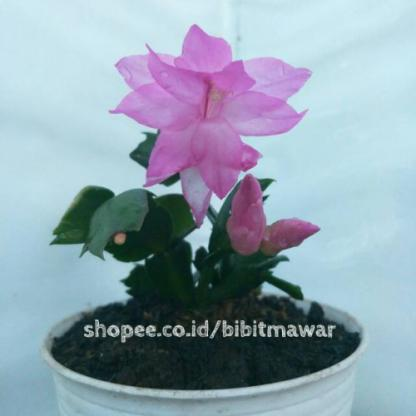Aglonema: (25, 40, 393, 276), (70, 296, 308, 414)
